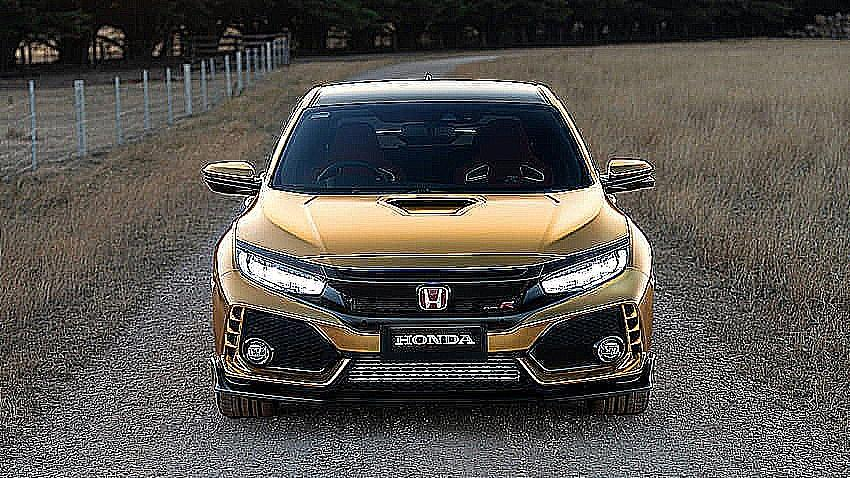Car hood: (230, 186, 633, 274)
Front bumper: (209, 272, 659, 410)
Headlight - -L-: (539, 234, 630, 294)
Headlight - -R-: (233, 241, 327, 302)
Side mirror - -L-: (603, 155, 658, 199)
Side mirror - -R-: (198, 159, 260, 196)
